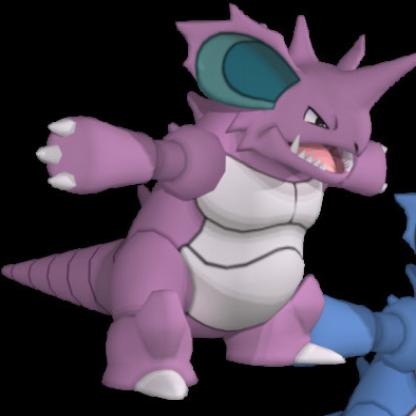Nidoking: (26, 14, 389, 393)
